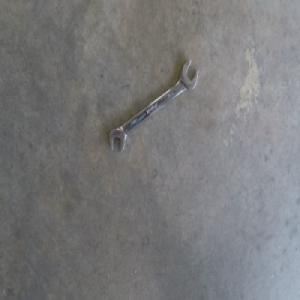Wrench: (109, 60, 198, 153)
